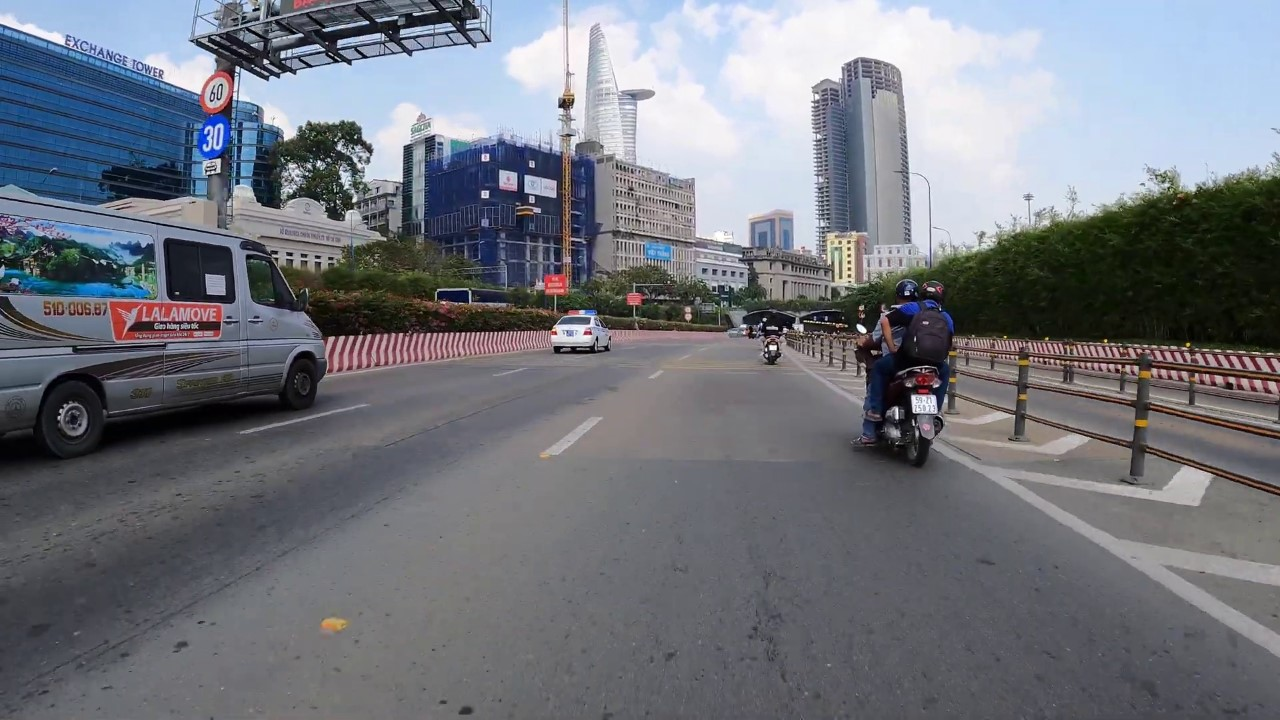gioi_han_60km: (199, 71, 233, 114)
